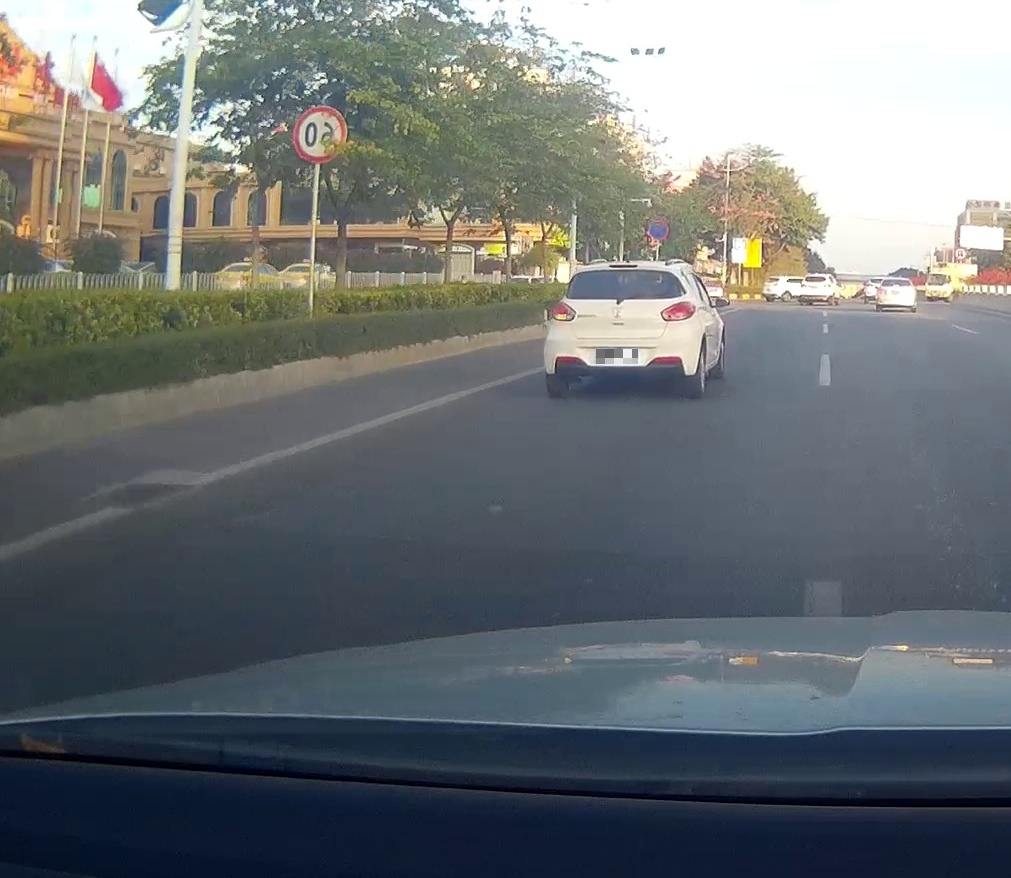L_light: (551, 301, 577, 321)
R_light: (660, 301, 696, 321)
T_light: (609, 264, 638, 268)
day-left: (544, 260, 700, 397)
plate_1: (596, 349, 638, 364)
